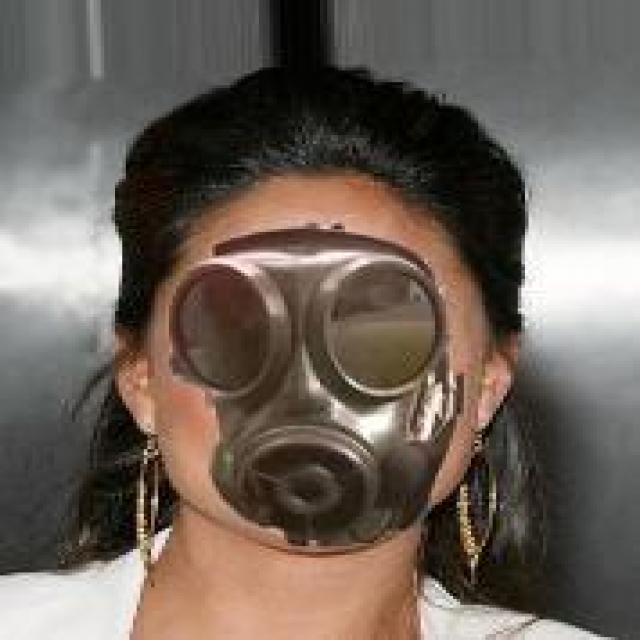mask: (93, 56, 540, 575)
